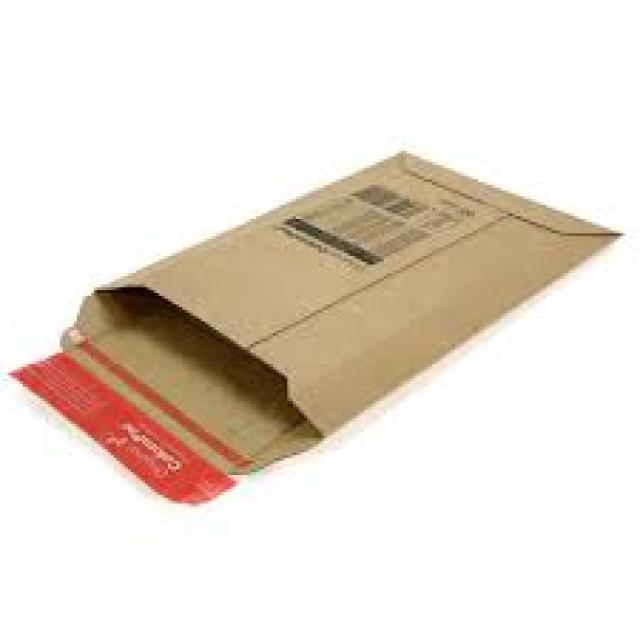Cardboard: (71, 146, 619, 472)
